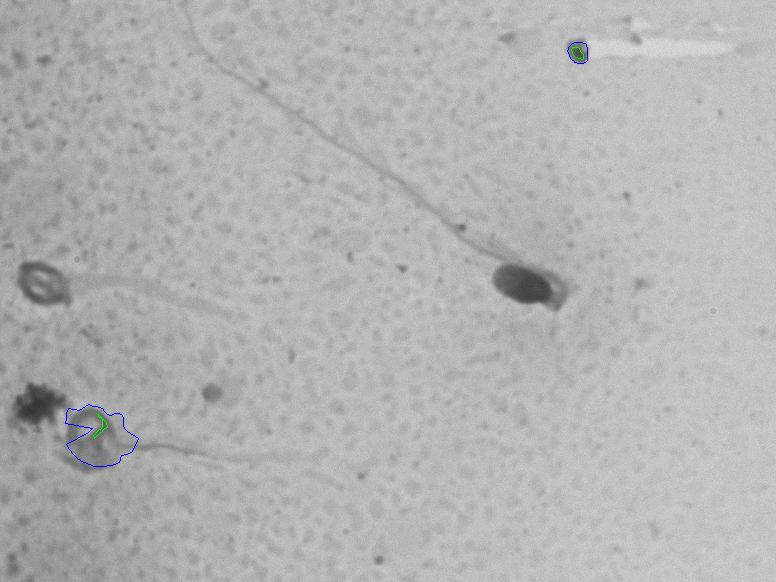Abnormal: (240, 52, 582, 344)
